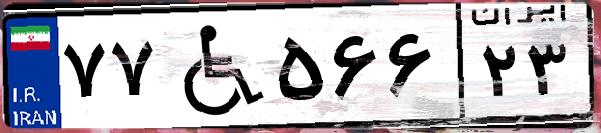2: (475, 38, 525, 113)
3: (525, 38, 570, 115)
5: (270, 28, 330, 110)
6: (385, 28, 445, 110), (330, 28, 385, 110)
7: (57, 26, 110, 100), (110, 28, 158, 98)
ژ (معلولین و جانبازان): (158, 12, 270, 120)
